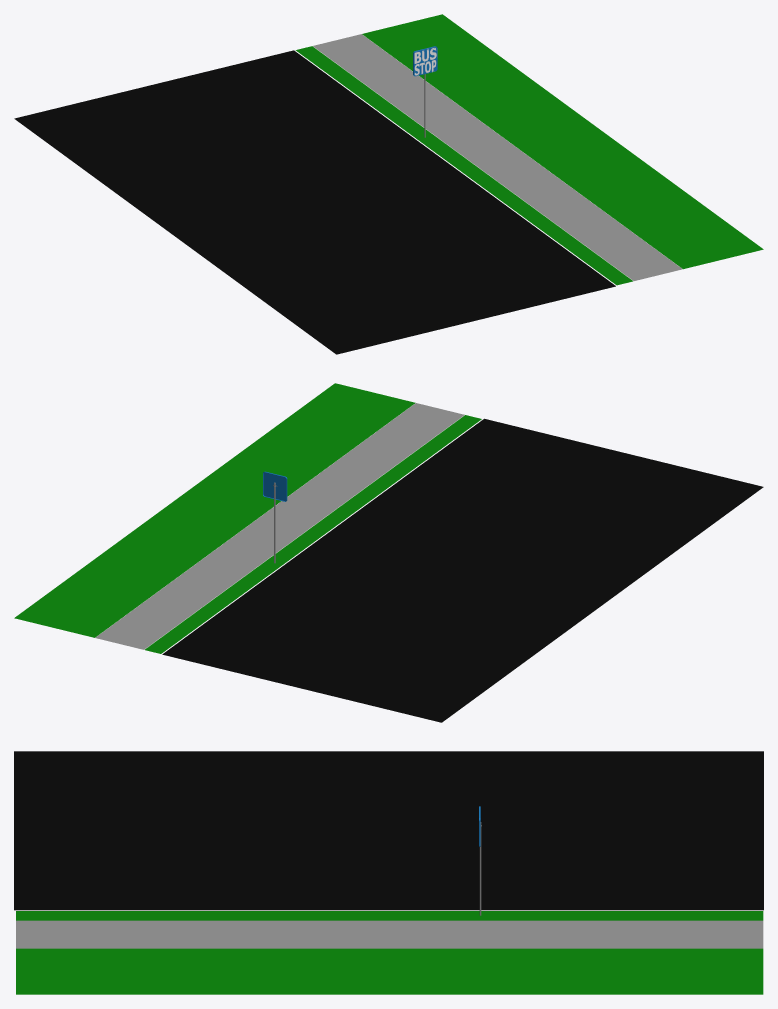
Rendered from WaitForBusEnv.FBX.
The picture shows the model from 3 angles, top to bottom: view 1: azimuth 30°, elevation 25°; view 2: azimuth 150°, elevation 25°; view 3: azimuth 270°, elevation 25°; orthographic projection. The views are drawn at different scales.
Parts seen in each view (by area): view 1: Plane001, Grass002, Grass003, Grass1, one way; view 2: Plane001, Grass002, Grass003, Grass1, one way; view 3: Plane001, Grass002, Grass003, Grass1.
Part boxes in pixels (<box>): Plane001: <box>14,50,615,354</box>; Grass002: <box>362,14,763,269</box>; Grass003: <box>313,34,682,280</box>; Grass1: <box>295,46,632,285</box>; one way: <box>413,46,437,76</box>; Plane001: <box>162,418,763,722</box>; Grass002: <box>14,383,415,637</box>; Grass003: <box>95,403,464,649</box>; Grass1: <box>145,415,481,653</box>; one way: <box>263,471,287,501</box>; Plane001: <box>14,751,763,910</box>; Grass002: <box>16,948,763,994</box>; Grass003: <box>16,920,763,948</box>; Grass1: <box>16,911,763,920</box>.
Bounding box in the file's own units: 142 × 28.11 × 185.
